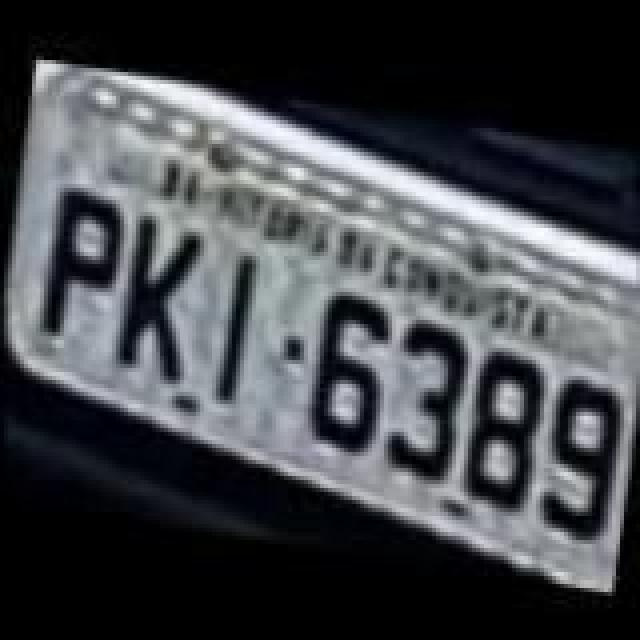1: (204, 242, 264, 406)
3: (372, 304, 476, 484)
6: (294, 286, 398, 458)
8: (450, 340, 550, 512)
9: (526, 372, 634, 544)
K: (110, 210, 214, 390)
P: (30, 186, 134, 350)
